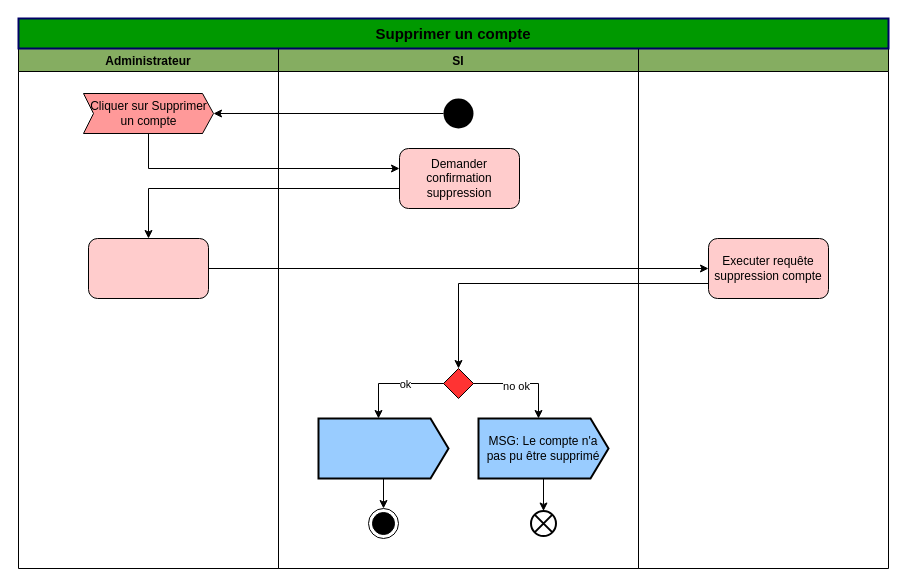
Some shapes in this 906 by 586 pixel diagram are drawn without their labels. Here are the shapes that lost their labels. From the top down, the box of each, then its label:
(88, 238, 208, 298): Confirmer suppression
(638, 48, 888, 568): BDD
(317, 417, 449, 479): Appeler fonction Envoyer un mail
